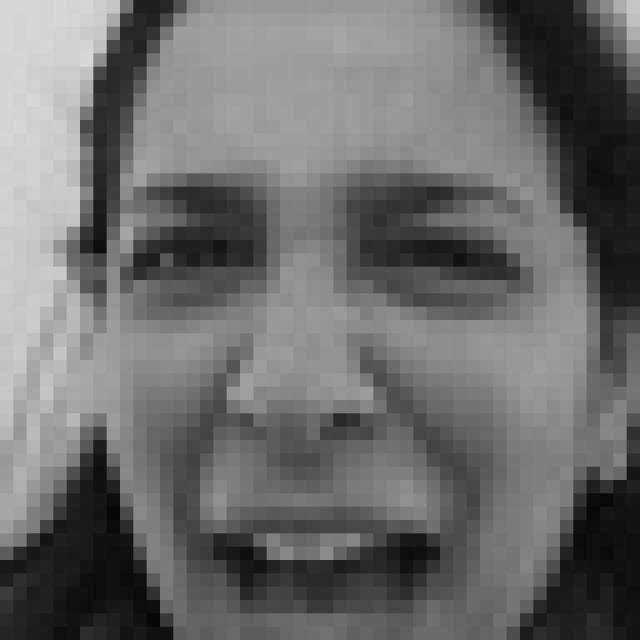disgust: (125, 174, 545, 640)
